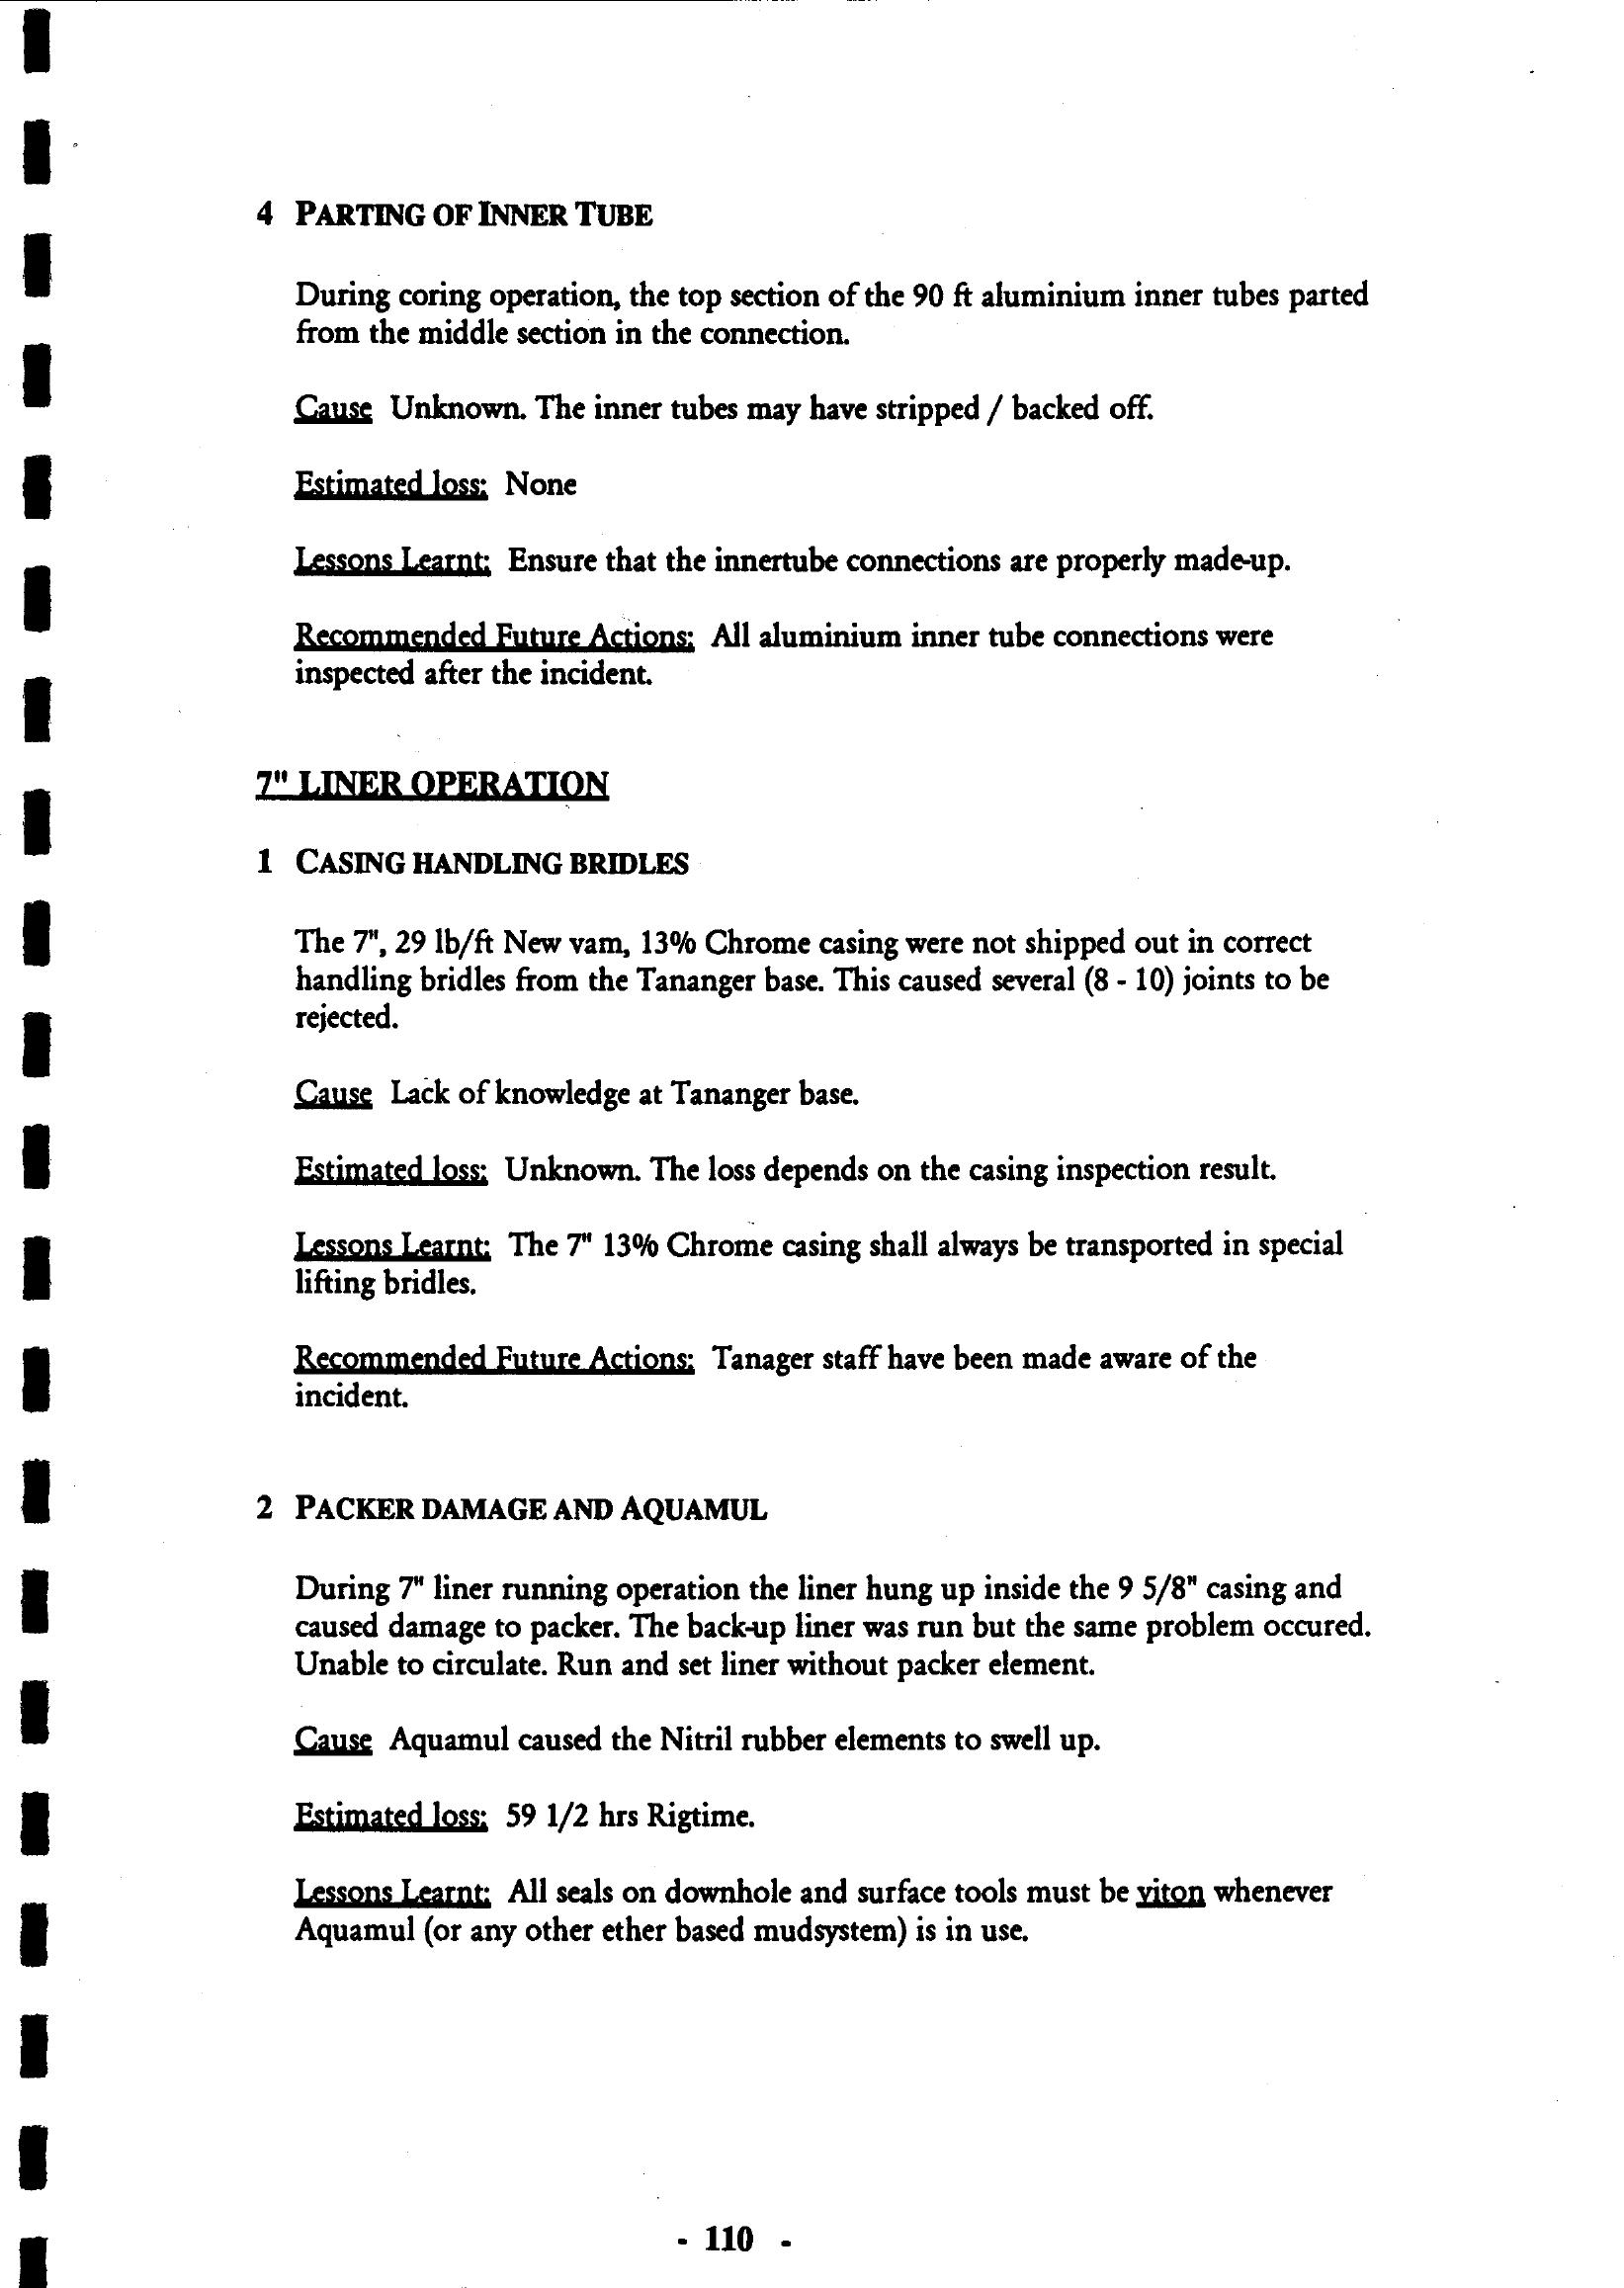text: (207, 149, 1448, 1986)
